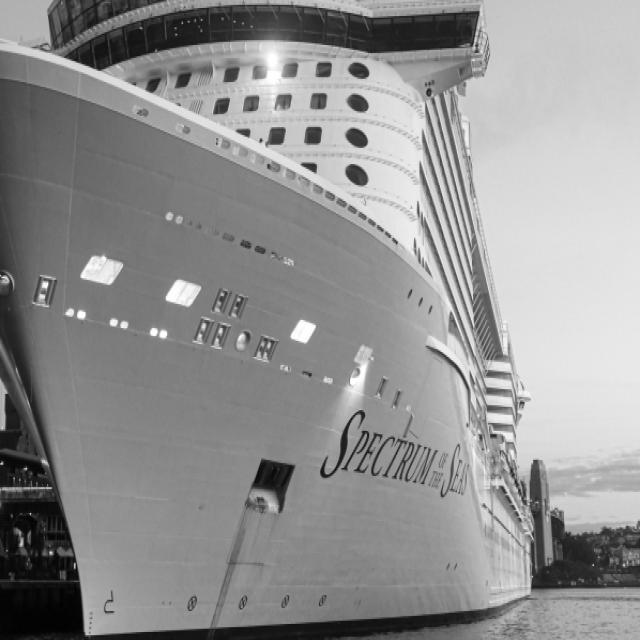cruises: (1, 1, 545, 640)
